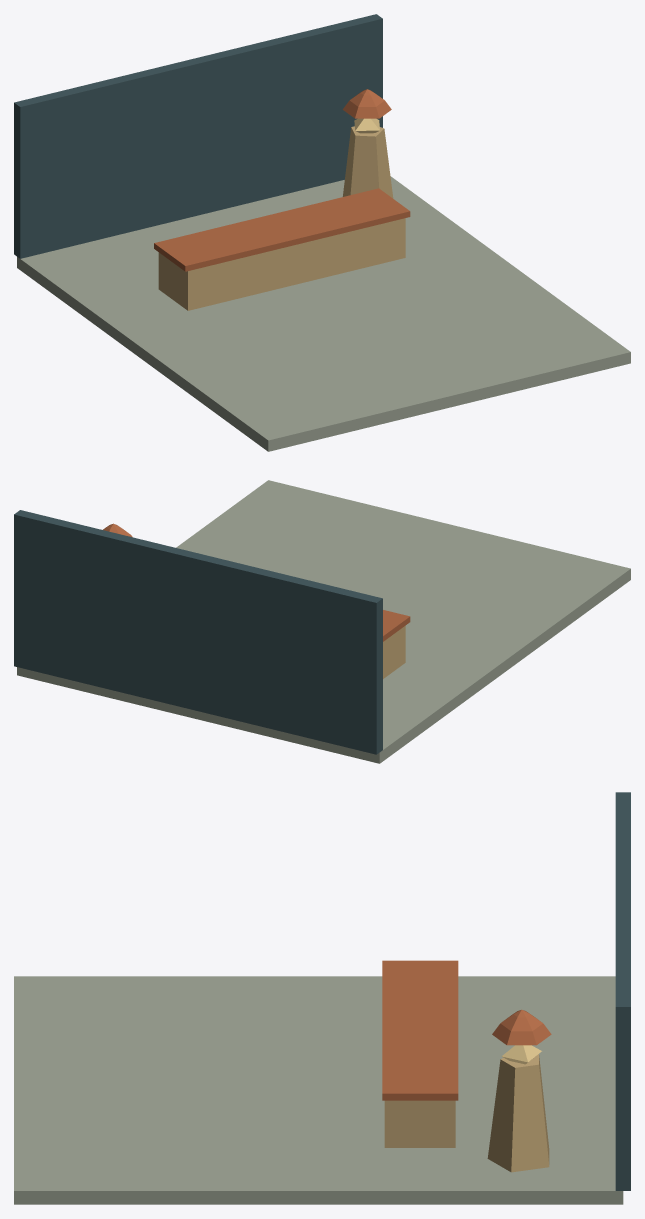
The model's file is market.gltf.
3 renders of one model, top to bottom at view 1: azimuth 30°, elevation 25°; view 2: azimuth 150°, elevation 25°; view 3: azimuth 270°, elevation 25°, orthographic. The views are drawn at different scales.
Visible parts, largest first — view 1: floor, back, counter, counter_band, lamp; view 2: back, floor, counter, counter_band; view 3: floor, counter_band, lamp, back, counter.
Boxes of the visible parts, x1,y1,x2,y2 form: floor: (17,176,630,451); back: (14,14,382,258); counter: (158,218,405,310); counter_band: (154,188,410,271); lamp: (342,89,393,198); back: (14,510,382,754); floor: (17,480,630,763); counter: (383,626,405,678); counter_band: (383,610,410,641); floor: (14,976,623,1204); counter_band: (382,960,458,1100); lamp: (487,1009,551,1172); back: (615,792,630,1190); counter: (384,1100,455,1147).
Size of the model in its own units: 10 by 4.3 by 12.15.
